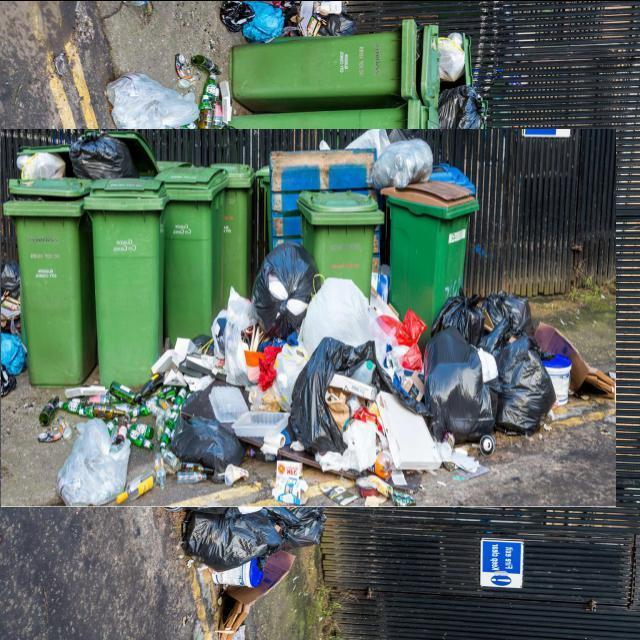Trashbag: (420, 330, 510, 448), (285, 345, 380, 455), (251, 239, 324, 340), (180, 508, 282, 565), (503, 334, 555, 438), (170, 414, 252, 474), (70, 127, 138, 187), (426, 288, 486, 351), (479, 290, 538, 348), (275, 497, 331, 557)
